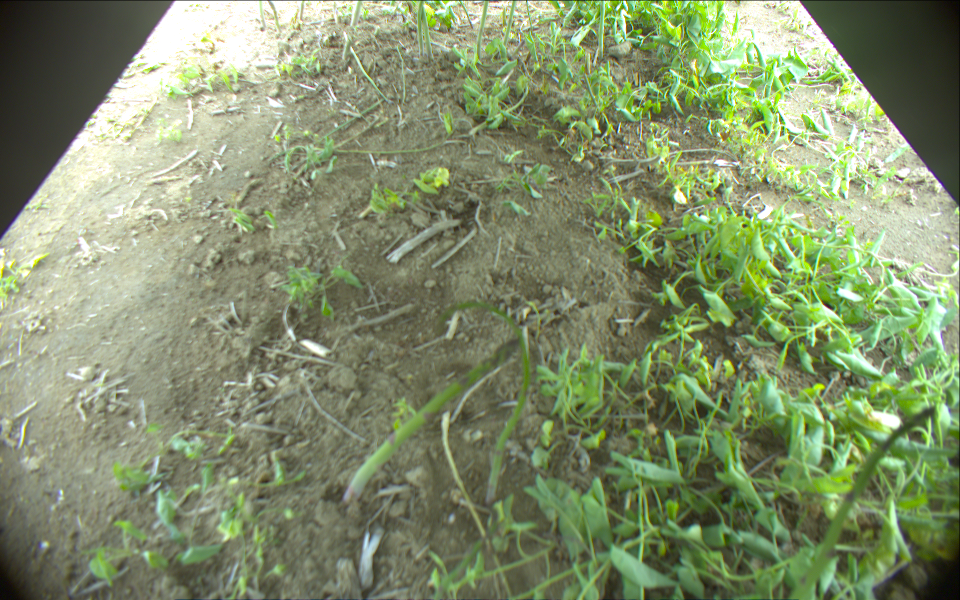aspa: (791, 403, 938, 600), (346, 337, 523, 500), (439, 300, 531, 500), (331, 1, 395, 106), (467, 58, 531, 132), (317, 97, 386, 142), (326, 139, 466, 156), (473, 1, 492, 62), (345, 1, 364, 58), (420, 1, 436, 59), (395, 44, 407, 104), (502, 1, 516, 47), (415, 1, 424, 56), (267, 1, 281, 30), (597, 1, 604, 56), (258, 1, 267, 27), (299, 1, 304, 25)
